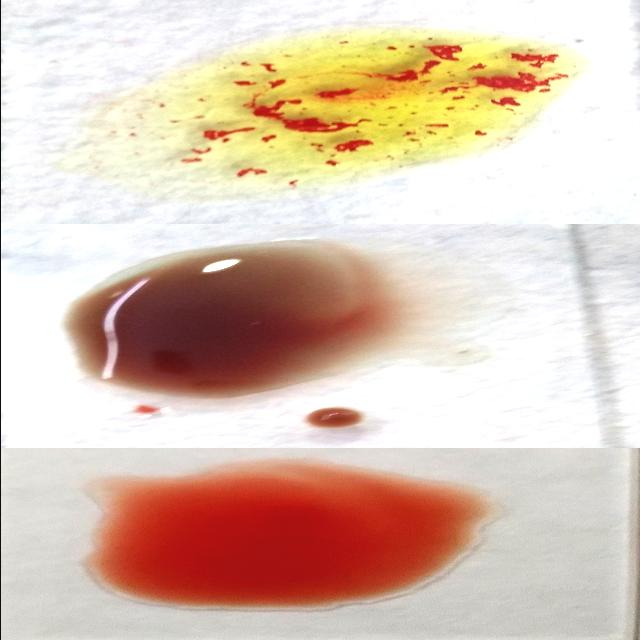B: (95, 29, 586, 174)
